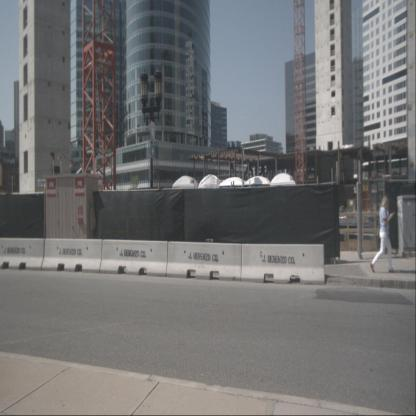human-pedestrian-adult: (370, 194, 396, 274)
movable_object-barrier: (240, 243, 325, 284), (166, 240, 242, 282), (100, 238, 169, 279), (42, 236, 103, 274), (0, 236, 45, 272)
